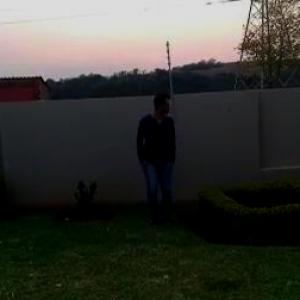follow: (132, 87, 178, 236)
